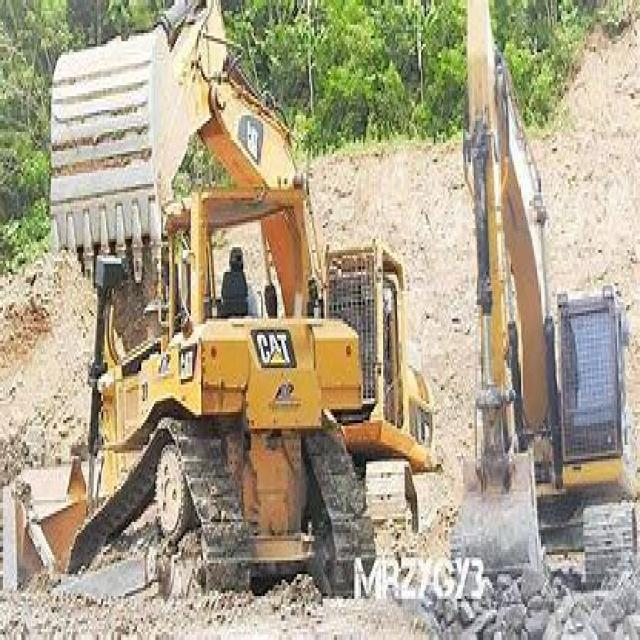buldozerpayloadergrader: (16, 151, 384, 599)
